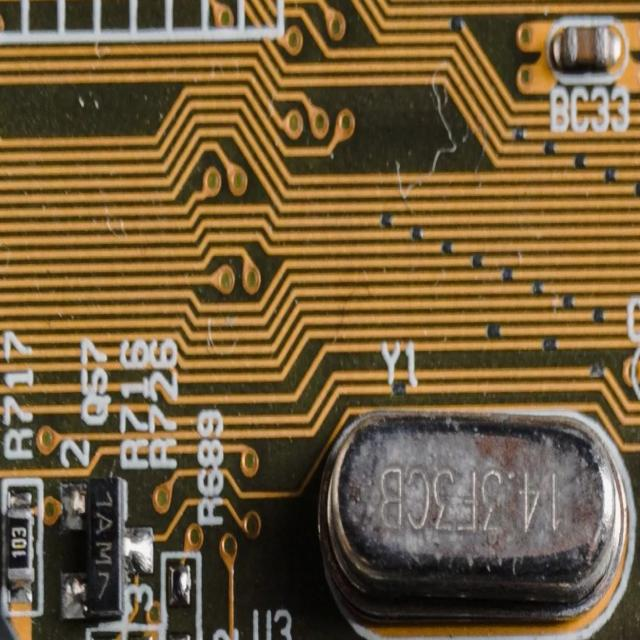4439: (53, 467, 157, 619)
capacitor 1V5: (548, 23, 620, 93)
clock Q1: (306, 381, 640, 640)
resistor IR1: (1, 492, 38, 599)
